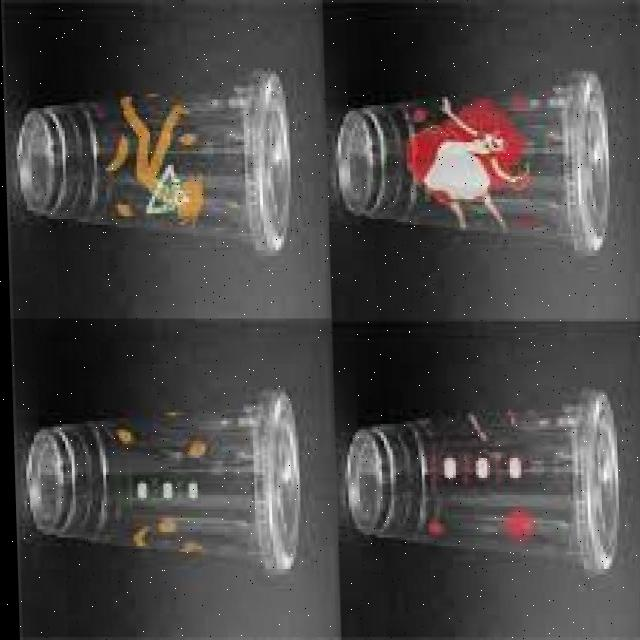cup: (9, 376, 321, 592), (300, 66, 623, 270), (1, 55, 297, 272), (325, 384, 640, 577)
